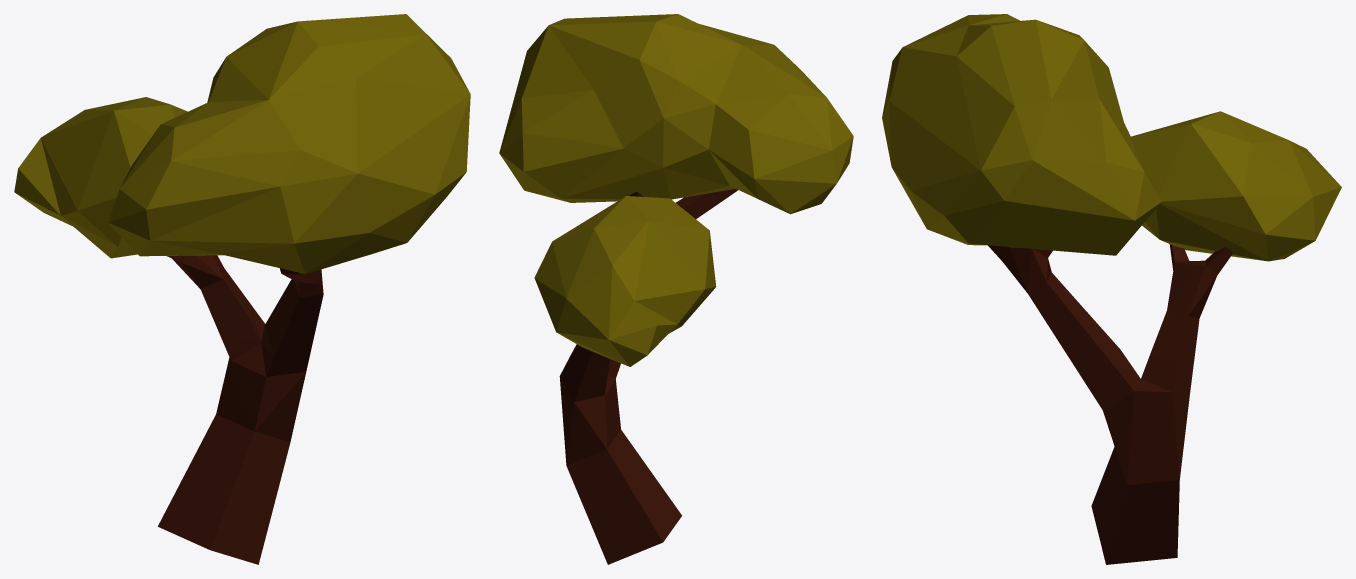
File: Oak2.fbx.glb
The picture shows the model from 3 angles, left to right: view 1: azimuth 30°, elevation 25°; view 2: azimuth 150°, elevation 25°; view 3: azimuth 270°, elevation 25°; orthographic projection. The views are drawn at different scales.
Parts seen in each view (by area): view 1: Oak2; view 2: Oak2; view 3: Oak2.
Part boxes in pixels (x1,y1,x2,y2): Oak2: [14, 14, 470, 564]; Oak2: [499, 14, 853, 564]; Oak2: [882, 14, 1341, 564].
Size of the model in its own units: 177 by 273 by 208.
